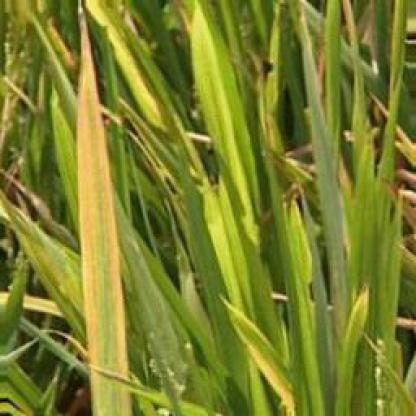Tungro: (72, 1, 128, 414), (230, 302, 302, 414)
